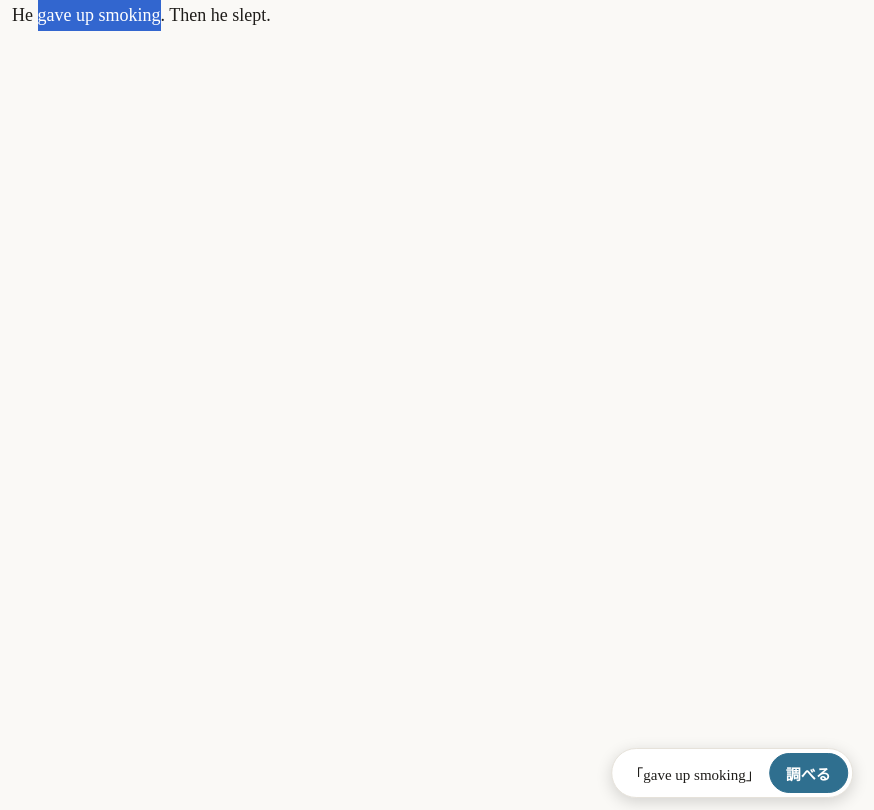
it: ChapterContent の範囲選択 › 2 語以上を選ぶと「調べる」が出て、押すとフレーズとして辞書を開き、選択は解除される
Expected: the text "「gave up smoking」" is shown, x1=628 y1=762 x2=761 y2=784
Step 1. Press the mouse on the button "調べる" → (808, 773), box x1=769 y1=753 x2=848 y2=793
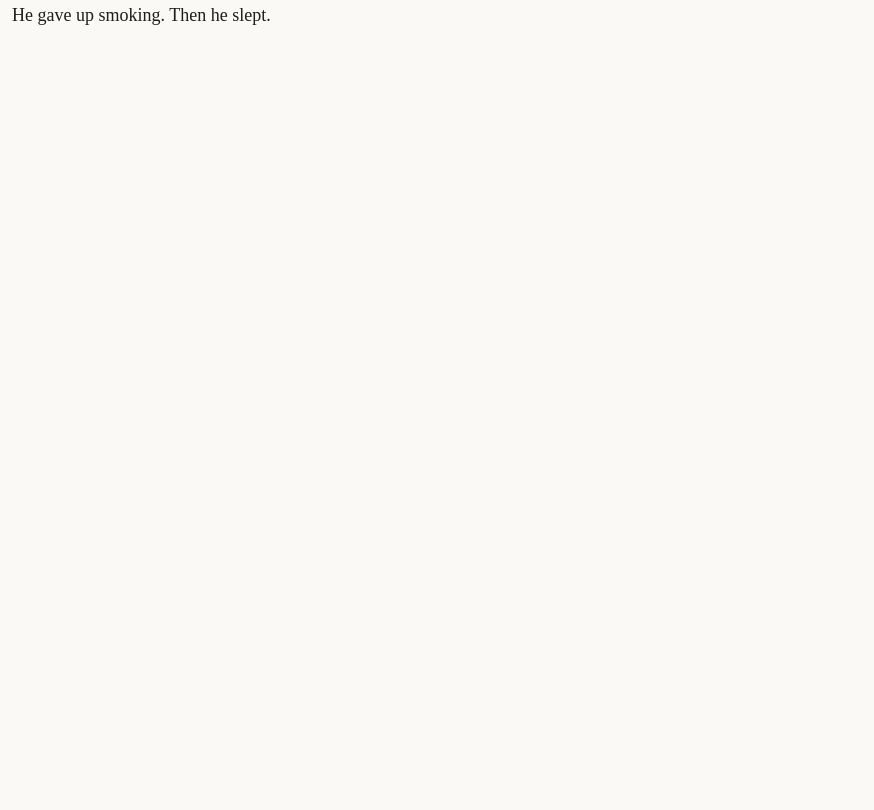
Now the button "調べる" is gone
